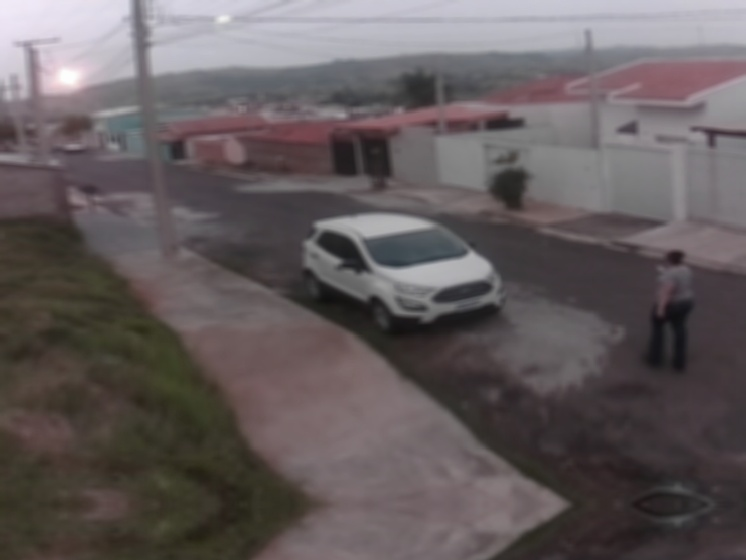person: (641, 249, 696, 377)
